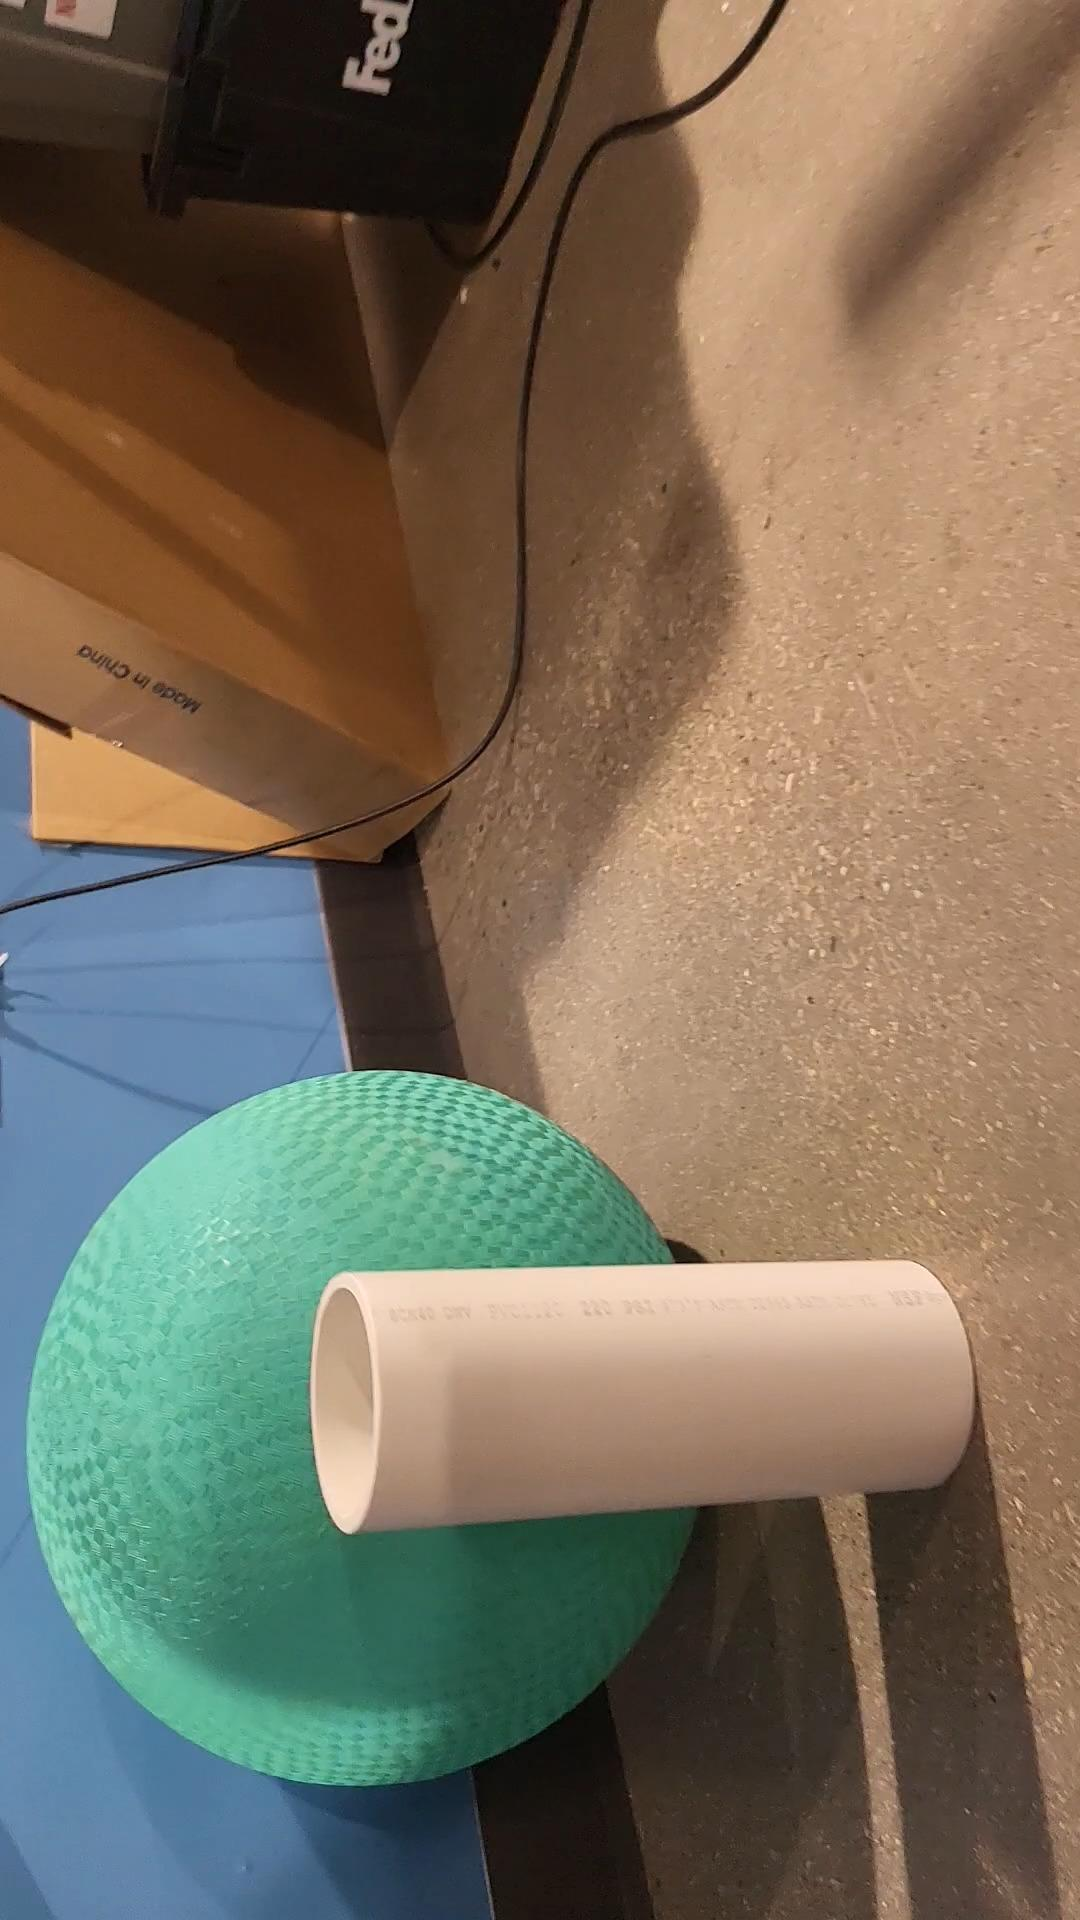algae: (36, 1069, 705, 1785)
coral: (313, 1261, 975, 1538)
